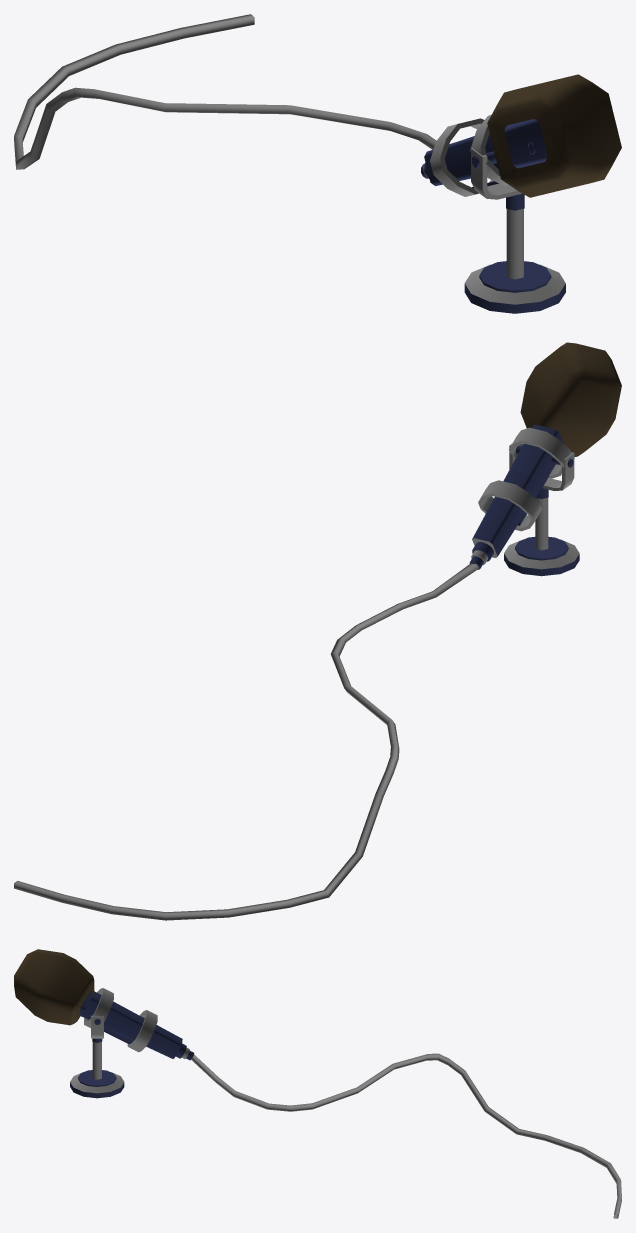
The model's file is SM_Hall_trading_microphone.fbx.
3 views of the same model, one above another, from view 1: azimuth 30°, elevation 25°; view 2: azimuth 150°, elevation 25°; view 3: azimuth 270°, elevation 25° (orthographic). The views are drawn at different scales.
Parts seen in each view (by area): view 1: SM_Hall_trading_microphone; view 2: SM_Hall_trading_microphone; view 3: SM_Hall_trading_microphone.
Part boxes in pixels (box(x1,y1,x2,y2)): SM_Hall_trading_microphone: box(14, 14, 621, 313); SM_Hall_trading_microphone: box(14, 342, 621, 920); SM_Hall_trading_microphone: box(14, 949, 621, 1218).
Size of the model in its own units: 48.94 by 51.38 by 137.
